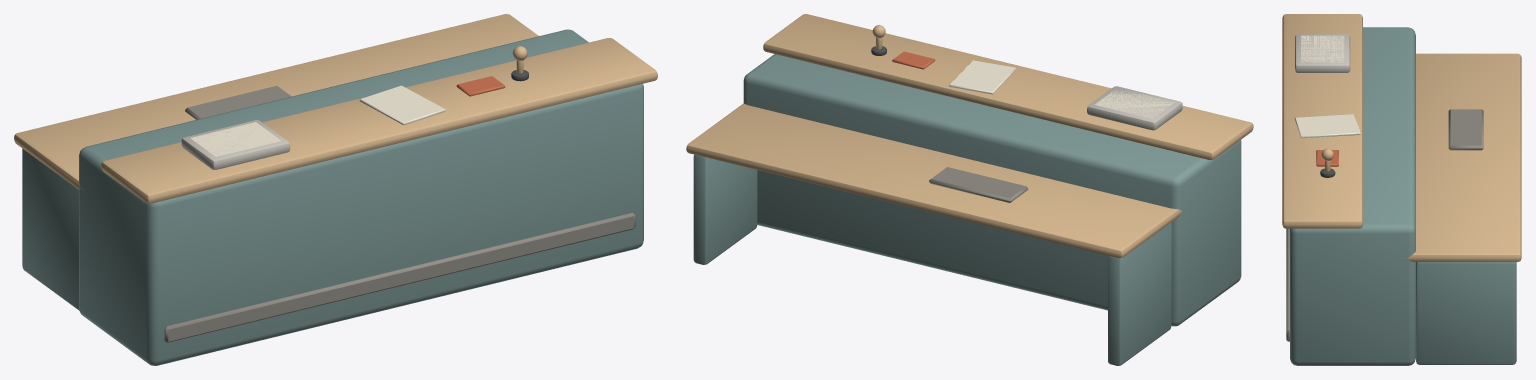
Rendered from reception_desk.glb.
3 views of the same model, side by side, from view 1: azimuth 30°, elevation 25°; view 2: azimuth 150°, elevation 25°; view 3: azimuth 270°, elevation 25° (orthographic). The views are drawn at different scales.
Parts seen in each view (by area): view 1: paint, wood, steel_dark, paper, steel, food_c; view 2: paint, wood, paper, steel, steel_dark, food_c; view 3: paint, wood, paper, steel, steel_dark, food_c.
Boxes of the visible parts, box(x1,y1,x2,y2) form: paint: box(22, 29, 643, 365); wood: box(14, 14, 657, 203); steel_dark: box(164, 85, 635, 342); paper: box(190, 85, 445, 156); steel: box(181, 120, 290, 169); food_c: box(456, 76, 505, 96); paint: box(693, 54, 1241, 365); wood: box(686, 14, 1253, 258); paper: box(949, 60, 1174, 118); steel: box(1087, 86, 1182, 130); steel_dark: box(929, 167, 1028, 202); food_c: box(892, 51, 935, 69); paint: box(1290, 27, 1516, 365); wood: box(1282, 14, 1521, 261); paper: box(1294, 35, 1360, 138); steel: box(1295, 34, 1350, 72); steel_dark: box(1286, 109, 1483, 341); food_c: box(1316, 150, 1338, 166).
Bounding box in the file's own units: 1.96 × 0.775 × 0.95.
